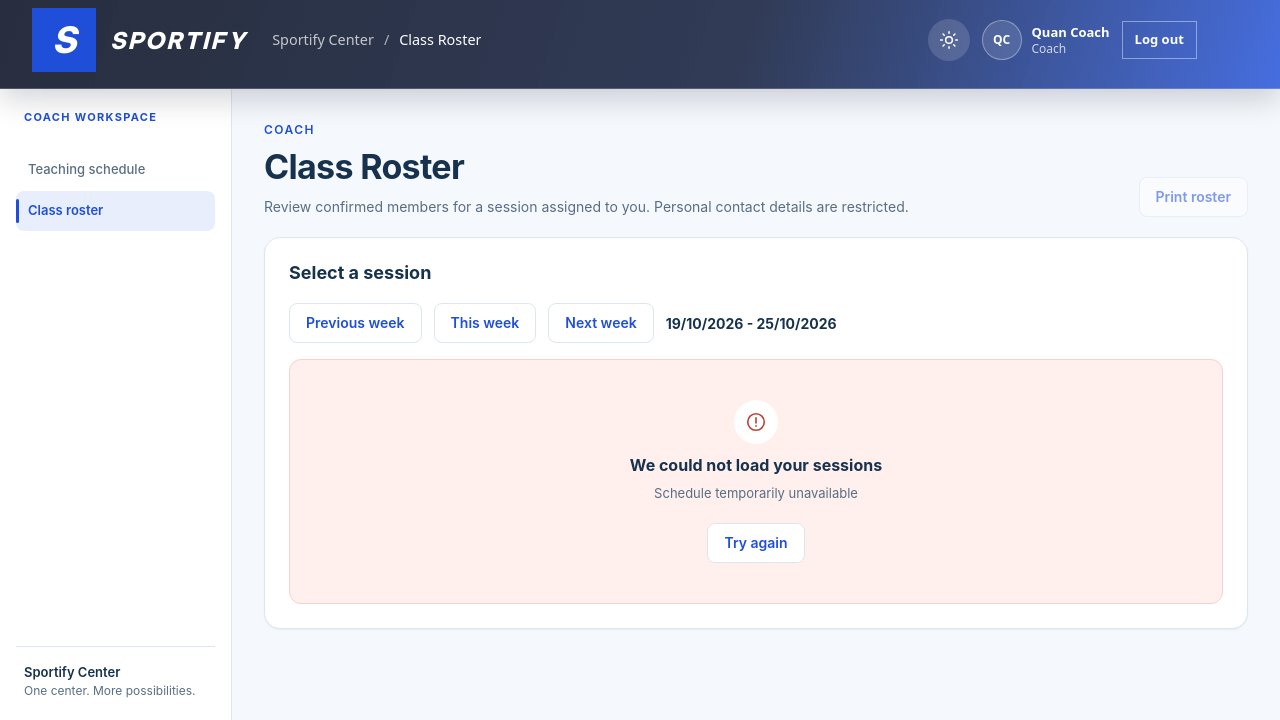
FE-10 coach schedule and roster screens › surfaces schedule failures with retry and never fetches an arbitrary roster before ownership is known
Check: the text "Schedule temporarily unavailable" is shown, box x1=654 y1=484 x2=858 y2=503
Click the button "Try again" at (756, 543), box x1=708 y1=523 x2=805 y2=563
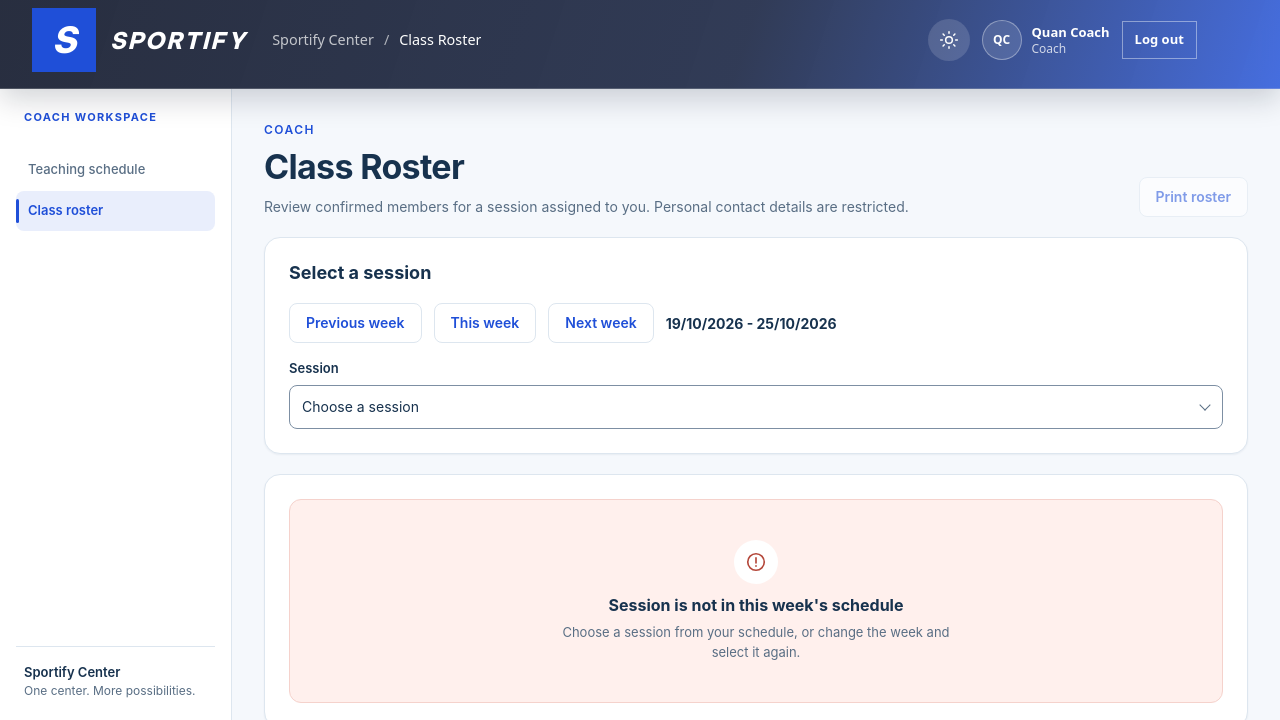
Check: the heading "Session is not in this week's schedule" is shown, box x1=608 y1=596 x2=903 y2=615
